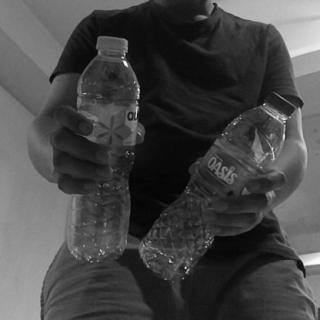plastic_bottles: (142, 91, 296, 282), (66, 36, 142, 264)
